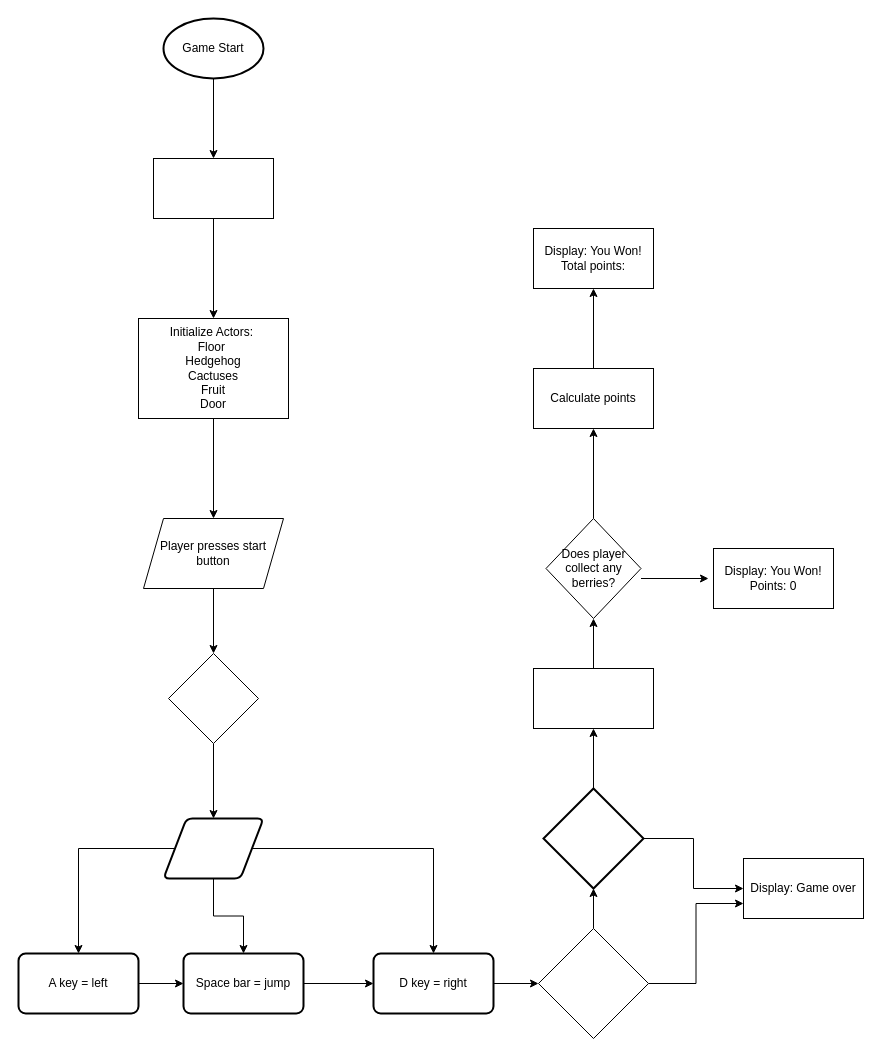
Some shapes in this 881 by 1056 pixel diagram are drawn without their labels. Here are the shapes that lost their labels. From the top down, the centre of each, then its label:
the point at 213,188: Initialize world: Game State 0
the point at 213,698: Game State:1
the point at 593,698: Player reaches door
the point at 213,848: User Moves
the point at 593,838: Does player fall?
the point at 593,983: Does player touch a cactus?
